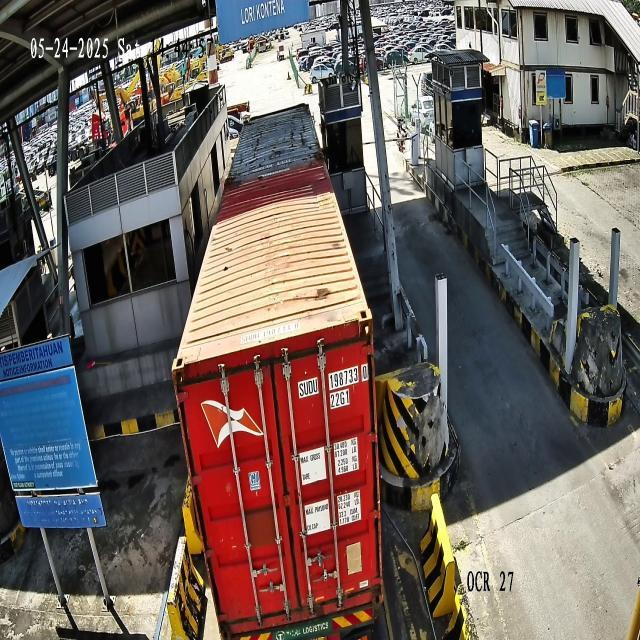ISO: (330, 388, 350, 411)
container_number: (298, 363, 368, 399)
